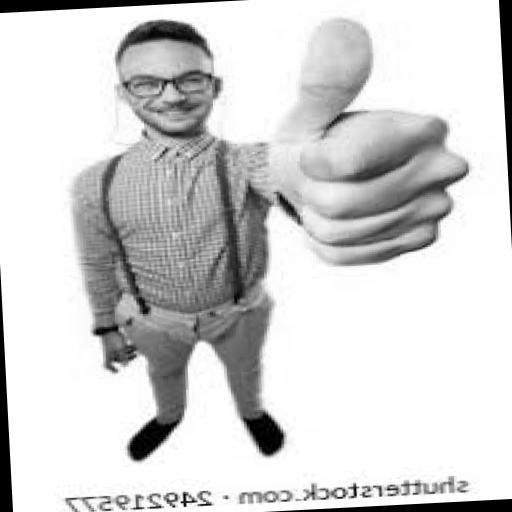Thumbs_Up: (218, 0, 504, 293)
